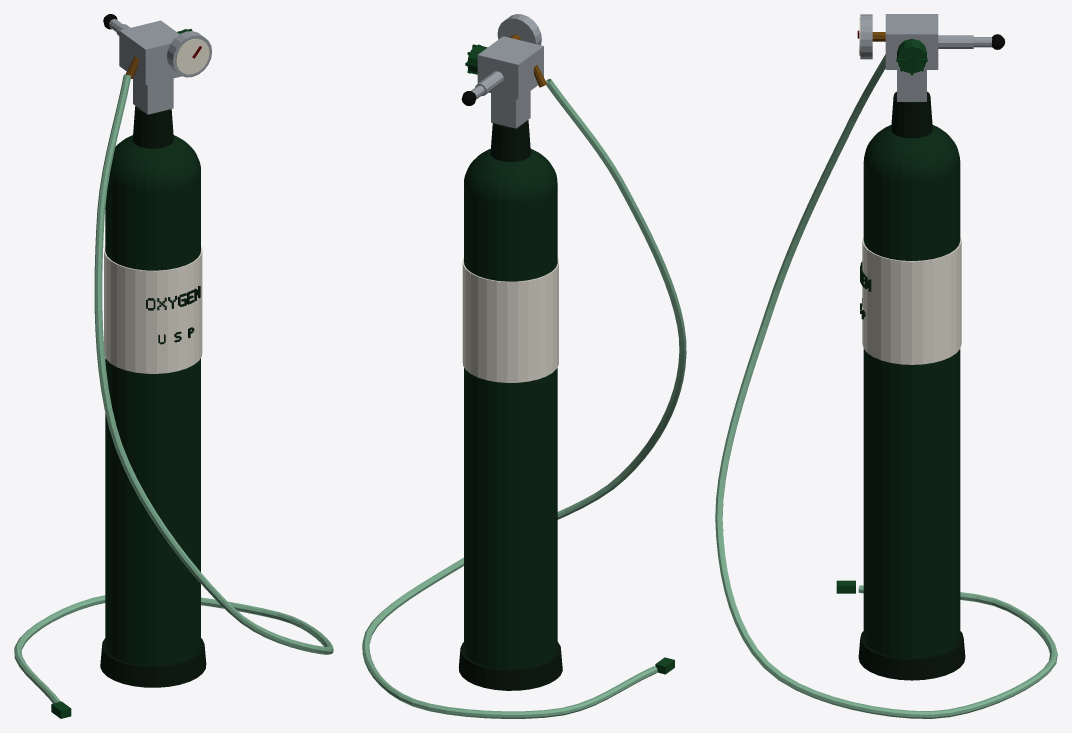
File: PortableOxygenTank.obj
3 views of the same model, side by side, from view 1: azimuth 30°, elevation 25°; view 2: azimuth 150°, elevation 25°; view 3: azimuth 270°, elevation 25° (orthographic). The views are drawn at different scales.
Visible parts, largest first — view 1: PortableOxygenTank; view 2: PortableOxygenTank; view 3: PortableOxygenTank.
Part boxes in pixels (x1,y1,x2,y2): PortableOxygenTank: (14, 14, 333, 718); PortableOxygenTank: (362, 14, 686, 718); PortableOxygenTank: (715, 14, 1057, 718).
Size of the model in its own units: 0.3613 by 0.816 by 0.3905.
